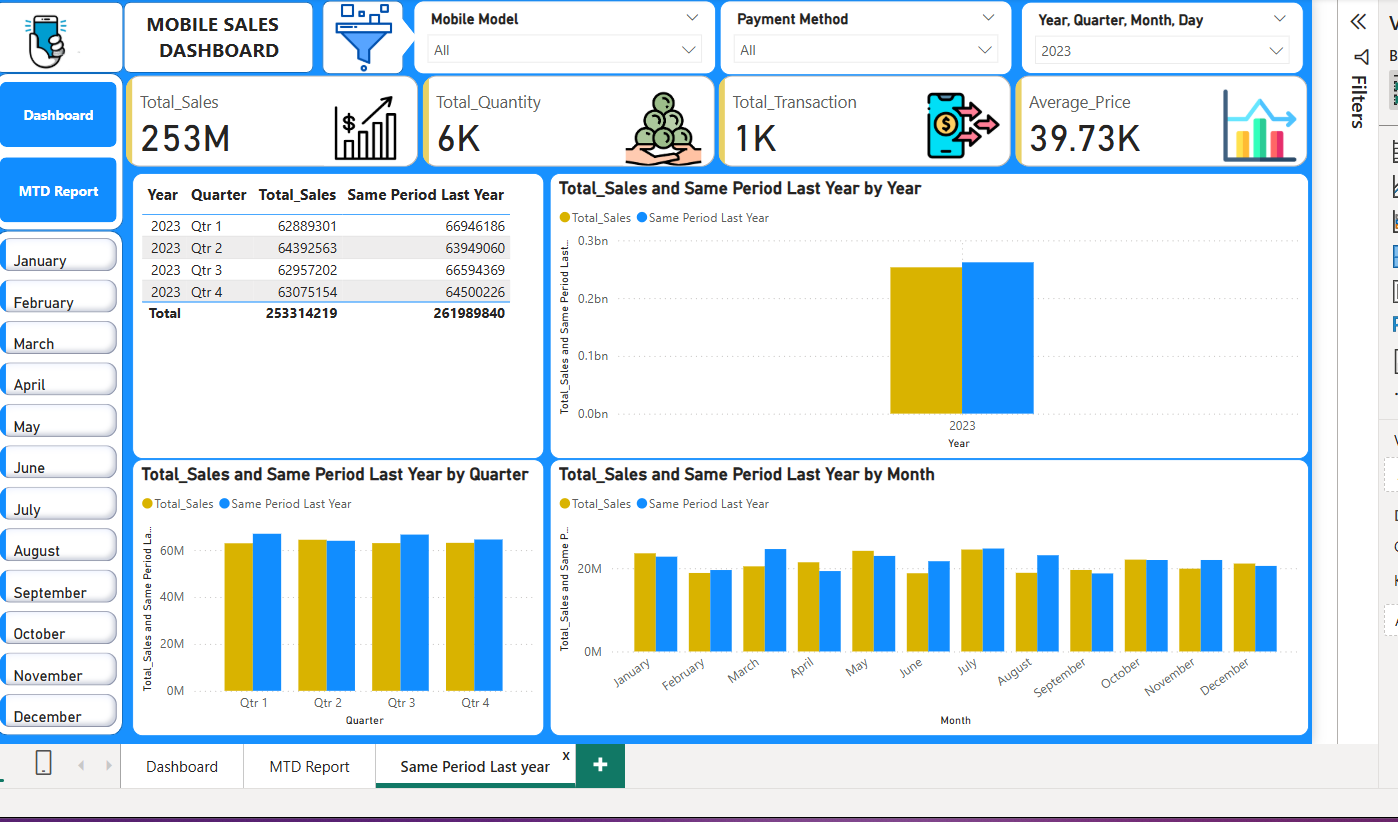

The dashboard page shown, as its layout file describes it:
{"tool":"powerbi","page":{"name":"Same Period Last year","canvas":[1280,720],"ordinal":2},"visuals":[{"type":"shape","box":[8.4,3.6,124.3,68.8],"z":0},{"type":"image","box":[19.3,3.6,77.2,77.2],"z":1000},{"type":"shape","box":[8.4,72.4,124.3,152],"z":2000},{"type":"cardVisual","fields":{"Data":["Mobile_Sales_Data.Total_Sales","Mobile_Sales_Data.Total_Quantity","Mobile_Sales_Data.Total_Transaction","Mobile_Sales_Data.Average_Price"]},"box":[130,70,1150,98.8],"z":3000},{"type":"slicer","fields":{"Values":["Mobile_Sales_Data.Mobile Model"]},"box":[412.6,2.4,292,71.2],"z":4000},{"type":"slicer","fields":{"Values":["Mobile_Sales_Data.Payment Method"]},"box":[708.2,2.4,282.3,72.4],"z":5000},{"type":"slicer","fields":{"Values":["Custom_Calendar.Date.Variation.Date Hierarchy.Year","Custom_Calendar.Date.Variation.Date Hierarchy.Quarter","Custom_Calendar.Date.Variation.Date Hierarchy.Month","Custom_Calendar.Date.Variation.Date Hierarchy.Day"]},"box":[998.9,3.6,272.7,70],"z":6000},{"type":"shape","box":[324.5,2.4,78.4,71.2],"z":7000},{"type":"shape","box":[382.4,16.9,33.8,42.2],"z":8000},{"type":"image","box":[277.5,0,173.7,77.2],"z":9000},{"type":"shape","box":[132.7,3.6,183.4,68.8],"z":10000},{"type":"textbox","box":[149.6,7.2,150.8,62.7],"z":11000},{"type":"shape","box":[8.8,225,123.8,487.5],"z":12000},{"type":"advancedSlicerVisual","fields":{"Values":["Custom_Calendar.Date.Variation.Date Hierarchy.Month"]},"box":[8.8,226.2,123.8,486.2],"z":13000},{"type":"tableEx","fields":{"Values":["Custom_Calendar.Date.Variation.Date Hierarchy.Year","Custom_Calendar.Date.Variation.Date Hierarchy.Quarter","Mobile_Sales_Data.Total_Sales","Mobile_Sales_Data.Same Period Last Year"]},"box":[141.2,168.8,397.5,276.2],"z":14000},{"type":"clusteredColumnChart","fields":{"Category":["Custom_Calendar.Date.Variation.Date Hierarchy.Year","Custom_Calendar.Date.Variation.Date Hierarchy.Quarter"],"Y":["Mobile_Sales_Data.Total_Sales","Mobile_Sales_Data.Same Period Last Year"]},"box":[543.8,168.8,732.5,276.2],"z":15000},{"type":"clusteredColumnChart","fields":{"Y":["Mobile_Sales_Data.Total_Sales","Mobile_Sales_Data.Same Period Last Year"],"Category":["Custom_Calendar.Date.Variation.Date Hierarchy.Year","Custom_Calendar.Date.Variation.Date Hierarchy.Quarter","Custom_Calendar.Date.Variation.Date Hierarchy.Month","Custom_Calendar.Date.Variation.Date Hierarchy.Day"]},"box":[543.8,445,732.5,267.5],"z":16000},{"type":"clusteredColumnChart","fields":{"Category":["Custom_Calendar.Date.Variation.Date Hierarchy.Year","Custom_Calendar.Date.Variation.Date Hierarchy.Quarter"],"Y":["Mobile_Sales_Data.Total_Sales","Mobile_Sales_Data.Same Period Last Year"]},"box":[141.2,445,397.5,267.5],"z":17000},{"type":"pageNavigator","box":[13.8,81.2,113.8,136.2],"z":18000}]}

Visuals, with their boxes on the page's 1280x720 design canvas (x1, y1, x2, y2). These are canvas units, not pixel positions in the 1398x822 screenshot, which may show the page scaled, cropped or inside an application window:
shape: BBox(8, 4, 133, 72)
image: BBox(19, 4, 96, 81)
shape: BBox(8, 72, 133, 224)
cardVisual - Mobile_Sales_Data.Total_Sales x Mobile_Sales_Data.Total_Quantity: BBox(130, 70, 1280, 169)
slicer - Mobile_Sales_Data.Mobile Model: BBox(413, 2, 705, 74)
slicer - Mobile_Sales_Data.Payment Method: BBox(708, 2, 990, 75)
slicer - Custom_Calendar.Date.Variation.Date Hierarchy.Year x Custom_Calendar.Date.Variation.Date Hierarchy.Quarter: BBox(999, 4, 1272, 74)
shape: BBox(324, 2, 403, 74)
shape: BBox(382, 17, 416, 59)
image: BBox(278, 0, 451, 77)
shape: BBox(133, 4, 316, 72)
textbox: BBox(150, 7, 300, 70)
shape: BBox(9, 225, 133, 712)
advancedSlicerVisual - Custom_Calendar.Date.Variation.Date Hierarchy.Month: BBox(9, 226, 133, 712)
tableEx - Custom_Calendar.Date.Variation.Date Hierarchy.Year x Custom_Calendar.Date.Variation.Date Hierarchy.Quarter: BBox(141, 169, 539, 445)
clusteredColumnChart - Custom_Calendar.Date.Variation.Date Hierarchy.Year x Custom_Calendar.Date.Variation.Date Hierarchy.Quarter: BBox(544, 169, 1276, 445)
clusteredColumnChart - Mobile_Sales_Data.Total_Sales x Mobile_Sales_Data.Same Period Last Year: BBox(544, 445, 1276, 712)
clusteredColumnChart - Custom_Calendar.Date.Variation.Date Hierarchy.Year x Custom_Calendar.Date.Variation.Date Hierarchy.Quarter: BBox(141, 445, 539, 712)
pageNavigator: BBox(14, 81, 128, 217)
